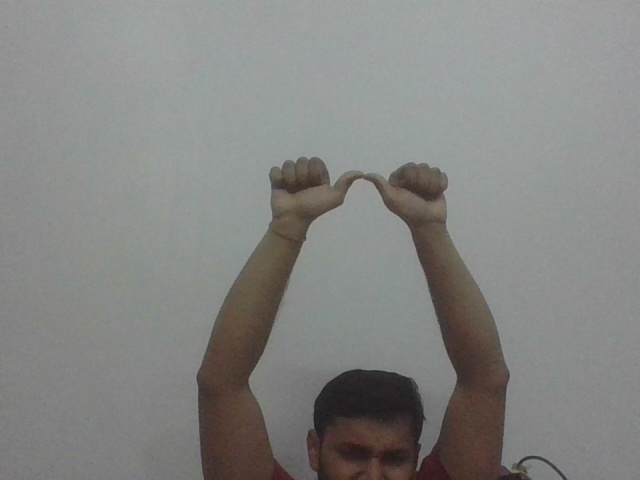A: (265, 155, 452, 224)
